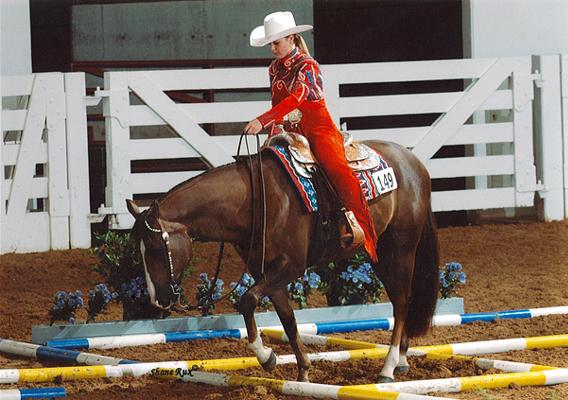person: (244, 12, 383, 264)
